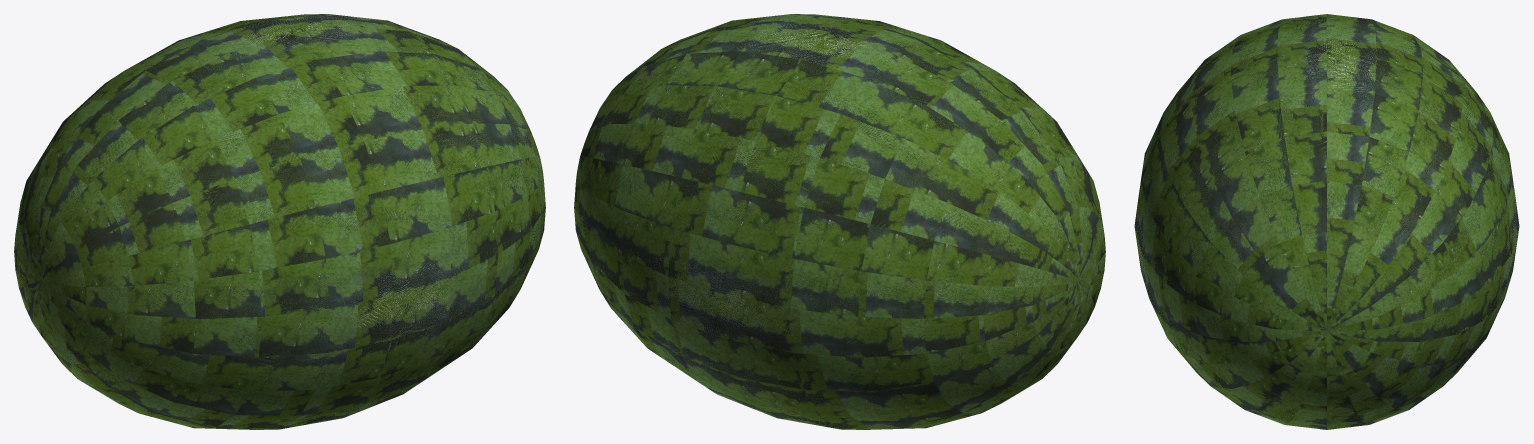
Rendered from watermelon.dae.
The picture shows the model from 3 angles, left to right: view 1: azimuth 30°, elevation 25°; view 2: azimuth 150°, elevation 25°; view 3: azimuth 270°, elevation 25°; orthographic projection. The views are drawn at different scales.
Parts seen in each view (by area): view 1: group_0; view 2: group_0; view 3: group_0 (×3).
Boxes of the visible parts, left/top/right/bottom form: group_0: left=14, top=14, right=545, bottom=429; group_0: left=574, top=14, right=1105, bottom=429; group_0 (×3): left=1134, top=14, right=1519, bottom=429.
Size of the model in its own units: 27.36 by 20.2 by 20.2.
Materials: 4 (4 with a texture image).
